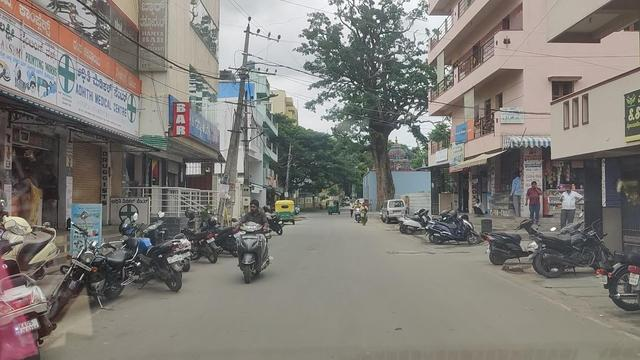LMV: (240, 200, 269, 286)
RoadDamages: (387, 247, 428, 257)
